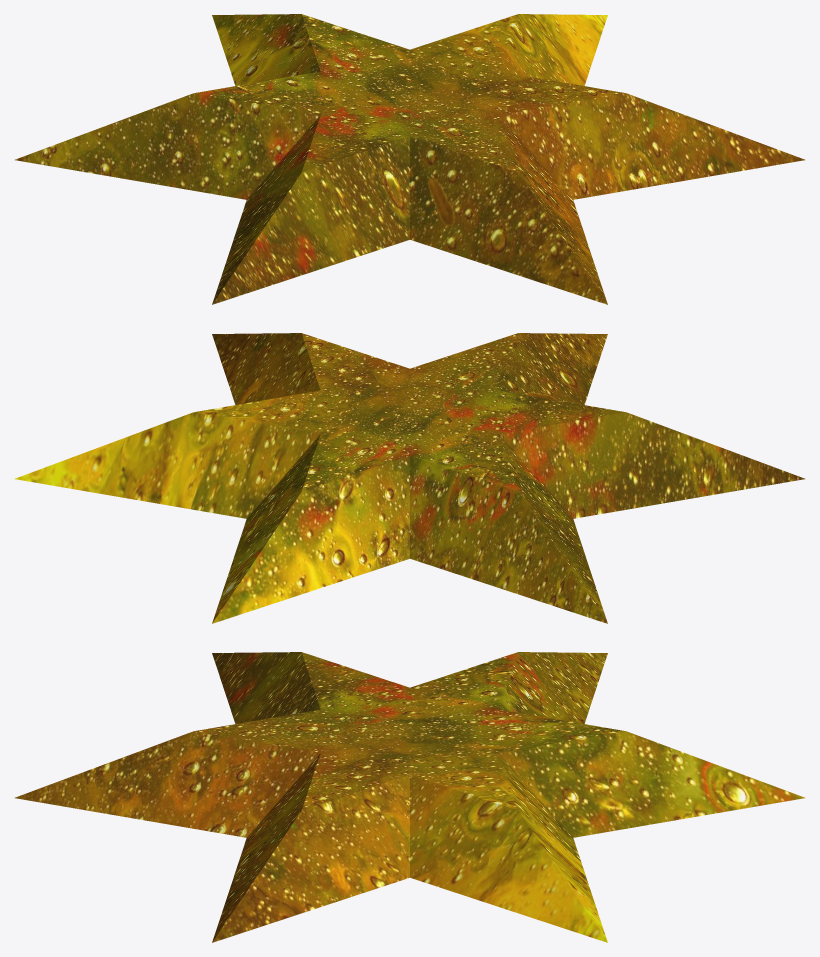
File: star.FBX
3 renders of one model, top to bottom at view 1: azimuth 30°, elevation 25°; view 2: azimuth 150°, elevation 25°; view 3: azimuth 270°, elevation 25°, orthographic.
Visible parts, largest first — view 1: Star001; view 2: Star001; view 3: Star001.
Boxes of the visible parts, box(x1,y1,x2,y2) form: Star001: box(15, 14, 804, 304); Star001: box(15, 333, 804, 623); Star001: box(15, 652, 804, 942).
Bounding box in the file's own units: 47.28 × 5.08 × 54.6.
1 material, 1 textured.
